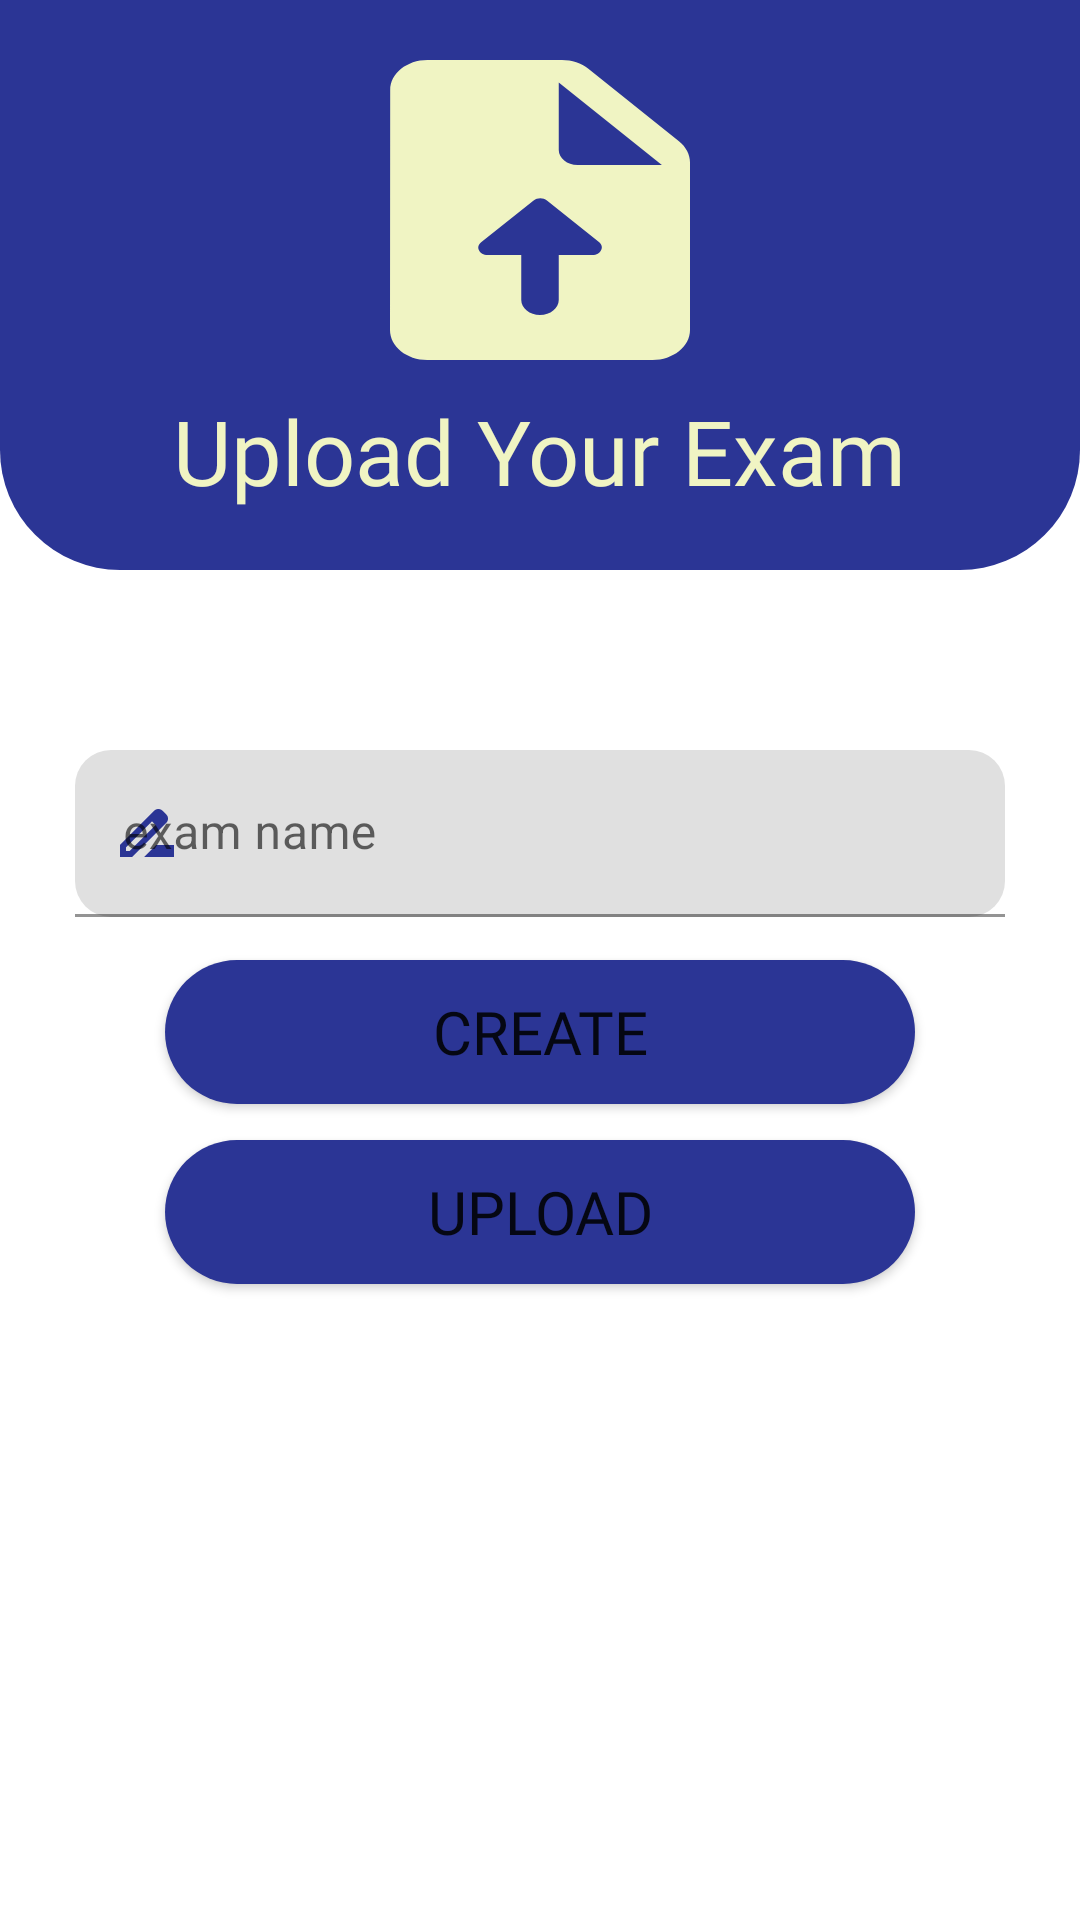

Named icons in this screenshot (1080 × 1920) and their centers, (x=x, y=y):
upload file: (x=540, y=210)
